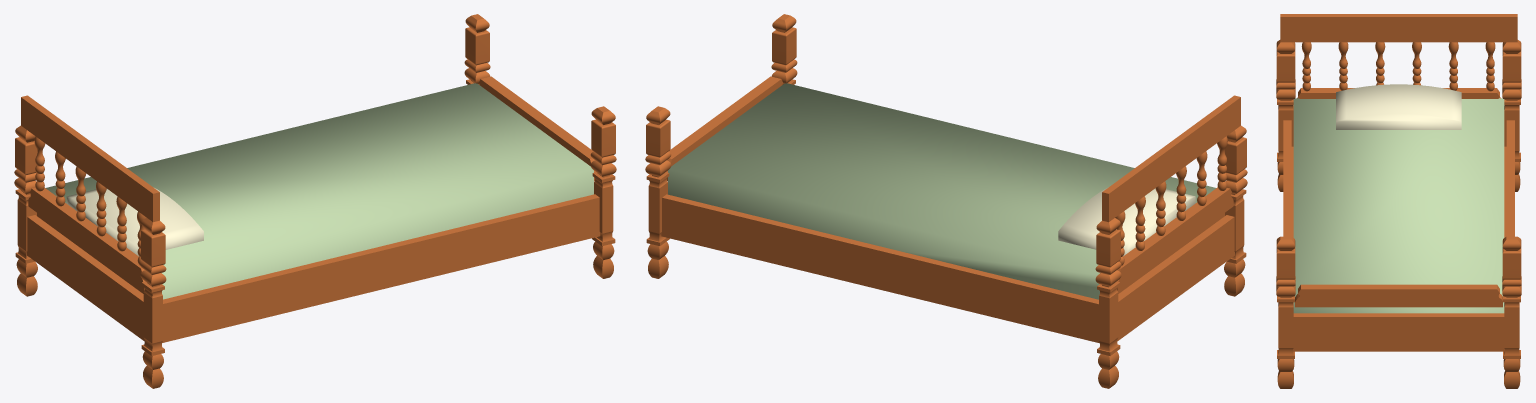
The model's file is wood bed.fbx.
The picture shows the model from 3 angles, left to right: view 1: azimuth 30°, elevation 25°; view 2: azimuth 150°, elevation 25°; view 3: azimuth 270°, elevation 25°; orthographic projection. The views are drawn at different scales.
Visible parts, largest first — view 1: Group4, Group2, bed_leg2, bed_leg1, Group1, ajkas2, bed_leg3, ajkas1, bed_leg4; view 2: Group4, Group2, bed_leg3, bed_leg4, Group1, ajkas2, bed_leg2, ajkas1, bed_leg1; view 3: Group4, Group2, Group1, ajkas1, bed_leg1, bed_leg4, bed_leg2, bed_leg3, ajkas2, sakjA1, sakjA6, sakjA5 (+3 smaller).
Part boxes in pixels (x1,y1,x2,y2): Group4: (45, 83, 593, 299); Group2: (21, 95, 600, 342); bed_leg2: (140, 218, 166, 388); bed_leg1: (590, 106, 616, 278); Group1: (66, 188, 203, 256); ajkas2: (28, 187, 144, 290); bed_leg3: (14, 125, 37, 296); ajkas1: (479, 76, 595, 181); bed_leg4: (464, 14, 490, 84); Group4: (668, 83, 1216, 299); Group2: (661, 95, 1240, 343); bed_leg3: (1095, 218, 1121, 388); bed_leg4: (645, 106, 671, 278); Group1: (1058, 187, 1195, 256); ajkas2: (1117, 187, 1233, 290); bed_leg2: (1224, 125, 1247, 296); ajkas1: (666, 76, 782, 181); bed_leg1: (771, 14, 797, 84); Group4: (1293, 98, 1504, 313); Group2: (1280, 14, 1517, 351); Group1: (1336, 84, 1461, 129); ajkas1: (1295, 284, 1502, 307); bed_leg1: (1276, 236, 1295, 388); bed_leg4: (1502, 236, 1521, 388); bed_leg2: (1276, 40, 1295, 191); bed_leg3: (1502, 40, 1521, 191); ajkas2: (1297, 88, 1500, 98); sakjA1: (1485, 42, 1495, 91); sakjA6: (1301, 42, 1311, 91); sakjA5: (1338, 42, 1348, 90).
Size of the model in its own units: 81.09 by 32.5 by 41.35.
